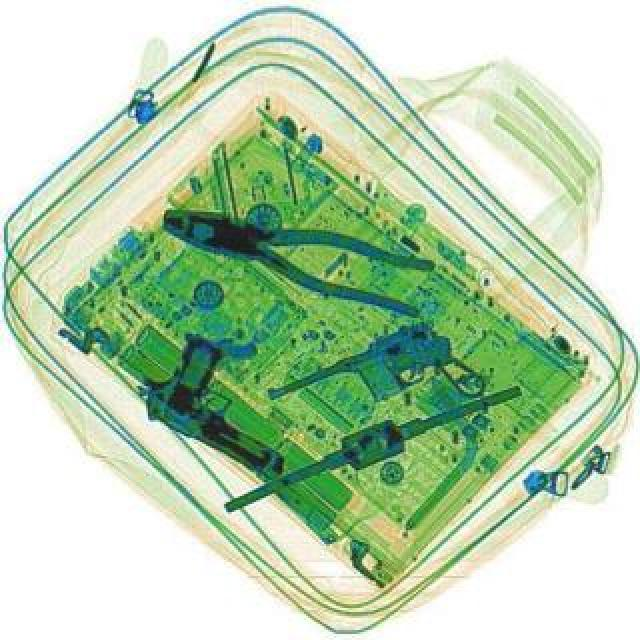gun: (262, 306, 490, 468), (124, 324, 324, 484)
wrench: (150, 186, 436, 318)
